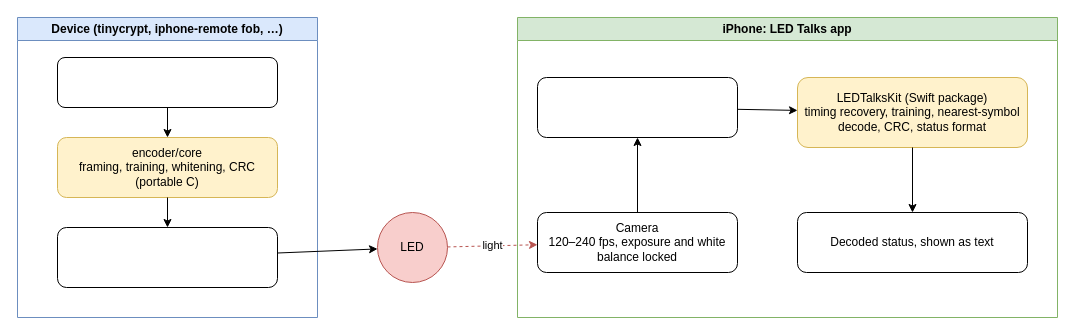
Some shapes in this 1075 by 335 pixel diagram are drawn without their labels. The shapes that lost their labels are listed below. From the top down, each one's centre as x and y in pixels, then its label:
the point at 167,82: Your firmware (builds a status payload)
the point at 637,107: Region of interest mean RGB per frame + timestamp
the point at 167,257: Port: ESP-IDF (WS2812) or Zephyr (GPIO / PWM) plays one symbol per period
